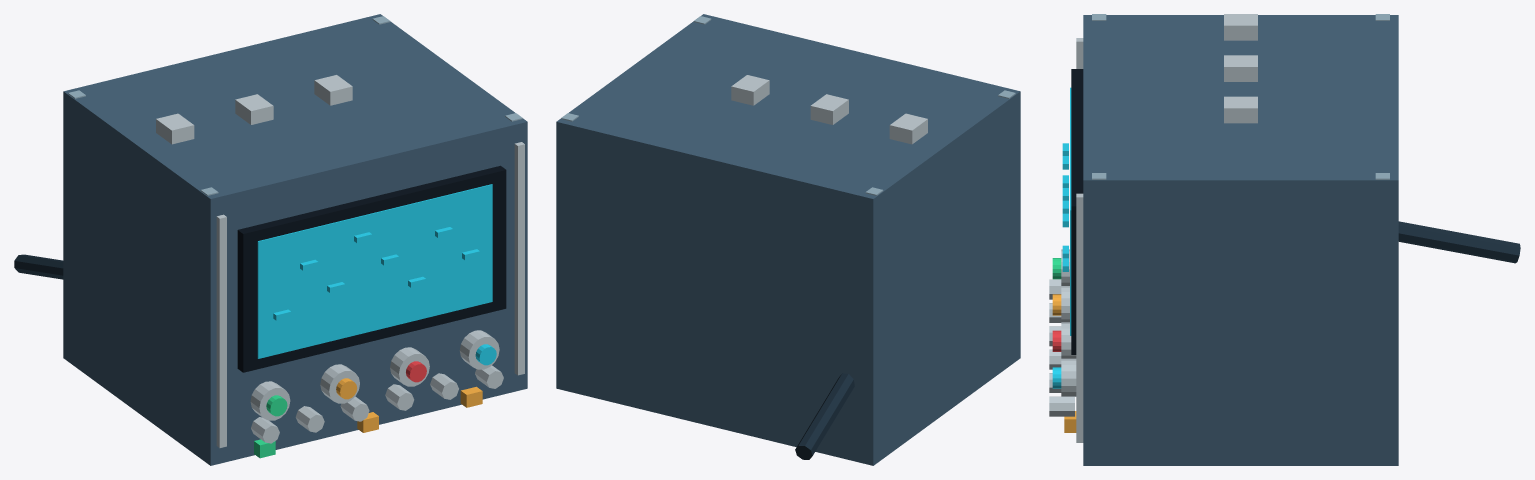
Rendered from 50_L80_MemoryOpticalLinkDiagnosticModule.fbx.
3 views of the same model, side by side, from view 1: azimuth 30°, elevation 25°; view 2: azimuth 150°, elevation 25°; view 3: azimuth 270°, elevation 25° (orthographic). The views are drawn at different scales.
Parts seen in each view (by area): view 1: MemoryOpticalLinkDiagnosticModule; view 2: MemoryOpticalLinkDiagnosticModule; view 3: MemoryOpticalLinkDiagnosticModule.
Boxes of the visible parts, bbox=[...] form: MemoryOpticalLinkDiagnosticModule: bbox=[14, 14, 527, 465]; MemoryOpticalLinkDiagnosticModule: bbox=[556, 14, 1020, 465]; MemoryOpticalLinkDiagnosticModule: bbox=[1049, 14, 1520, 465].
Size of the model in its own units: 92 by 77.86 by 111.
